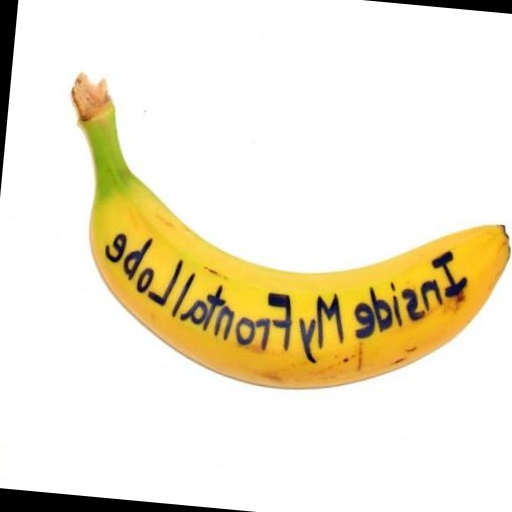fruit: (71, 75, 509, 387)
